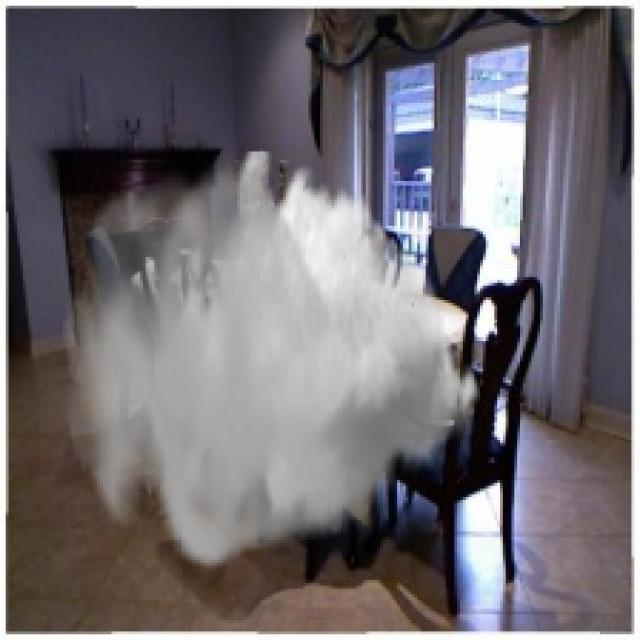smoke: (63, 152, 483, 574)
